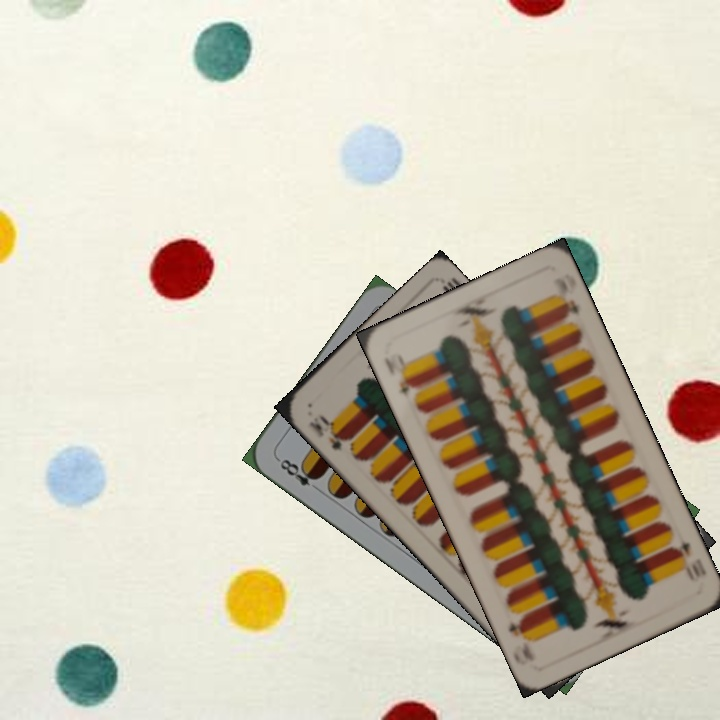E10: (304, 411, 354, 454), (667, 535, 709, 580), (391, 364, 420, 399)
E8: (273, 454, 323, 495)
